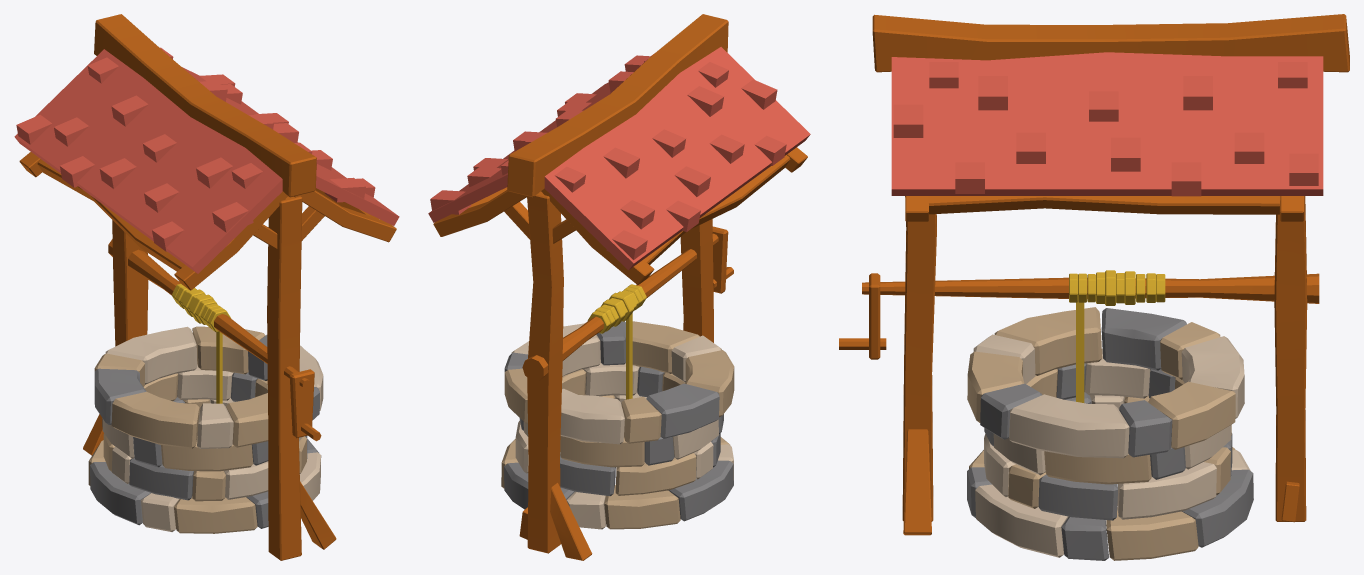
File: Well.fbx
3 renders of one model, left to right at view 1: azimuth 30°, elevation 25°; view 2: azimuth 150°, elevation 25°; view 3: azimuth 270°, elevation 25°, orthographic. The views are drawn at different scales.
Visible parts, largest first — view 1: Well; view 2: Well; view 3: Well.
Boxes of the visible parts, <box> form: Well: <box>14,14,399,560</box>; Well: <box>428,14,810,560</box>; Well: <box>839,14,1349,560</box>.
Bounding box in the file's own units: 7.94 × 14.31 × 13.36.
